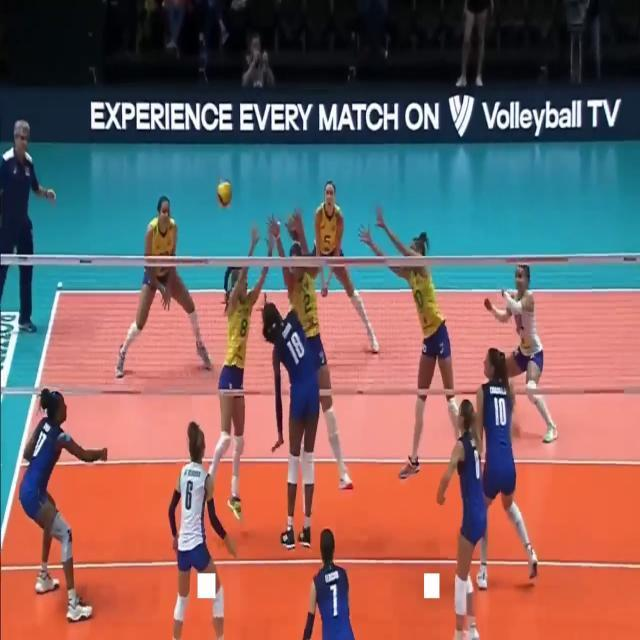volleyball: (215, 179, 232, 207)
